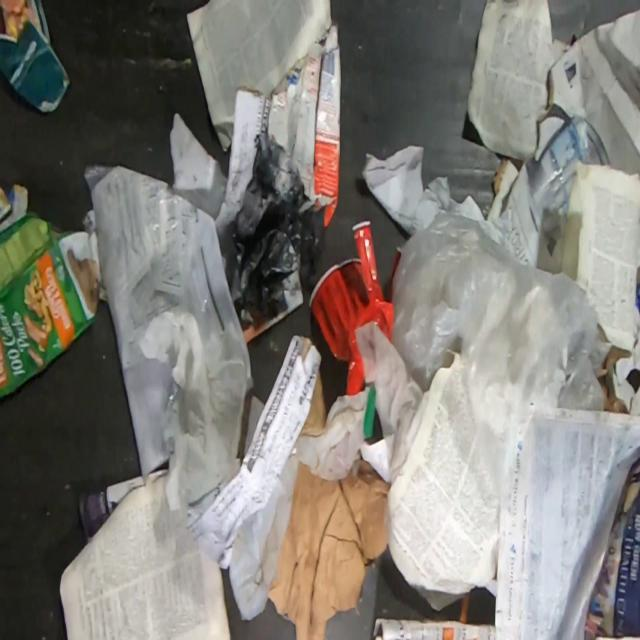cardboard: (486, 9, 640, 274), (0, 208, 98, 407), (255, 22, 342, 232)
rigid_plastic: (308, 219, 394, 397)
soft_plastic: (391, 215, 612, 490), (82, 162, 238, 478), (228, 137, 328, 333)
